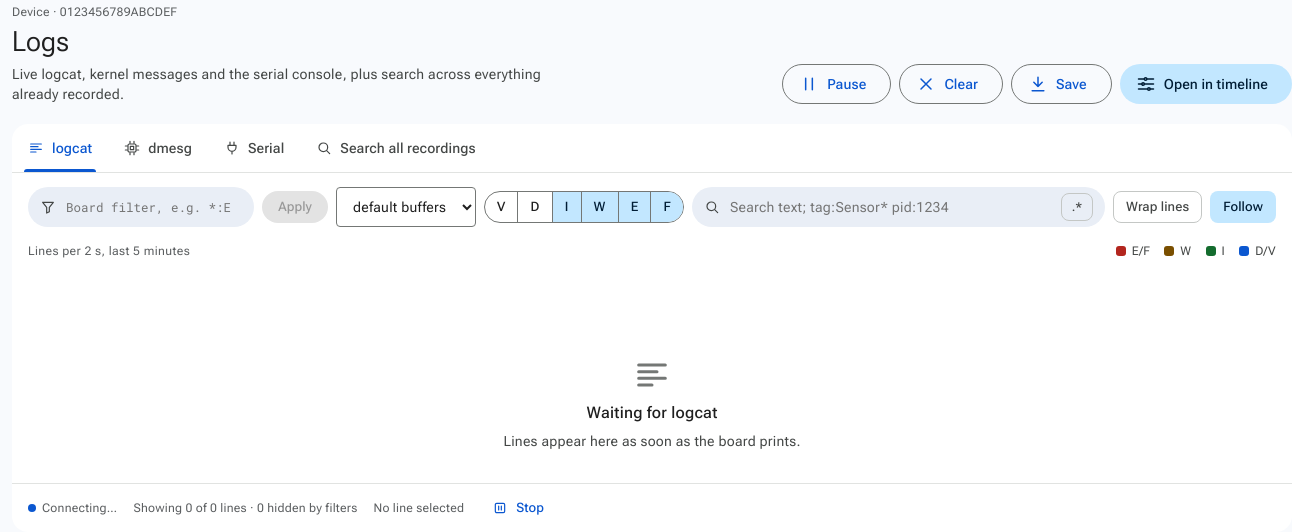
Scenario: LogsPage other tabs › reports a dmesg failure
The width and height of the screenshot is (1292, 532).
Step 1. Click the tab "dmesg" → (158, 148), box [108,124,208,172]
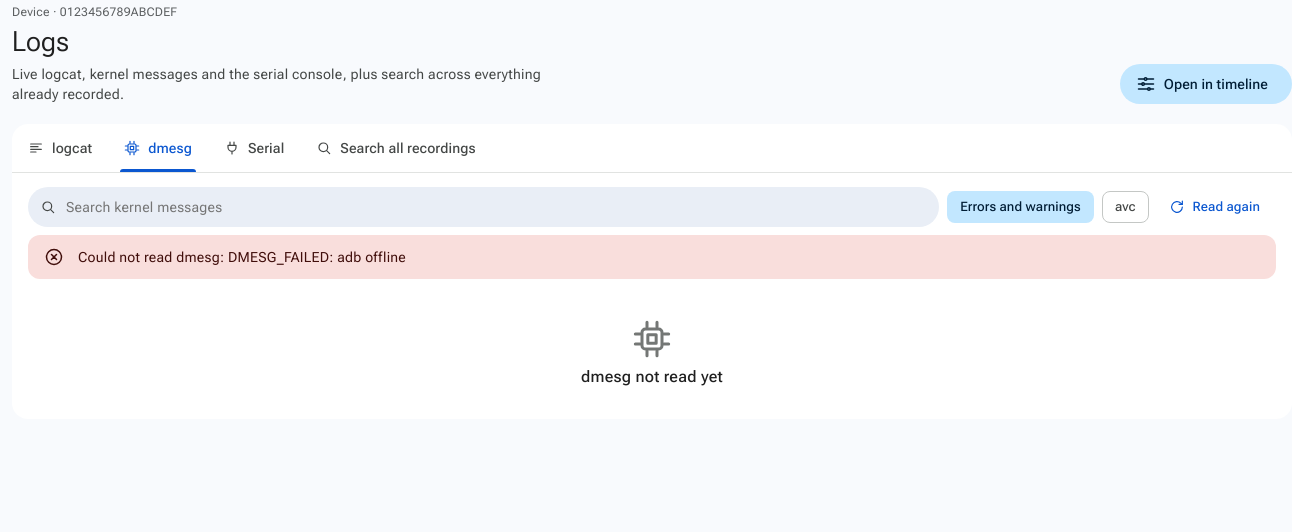
Result: the text "Could not read dmesg: DMESG_FAILED: adb offline" is shown at [78,249,406,265]
